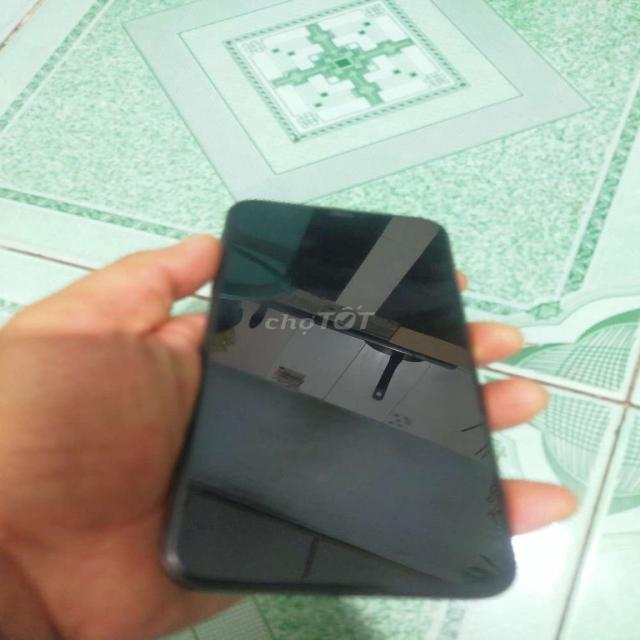gen_11: (150, 183, 524, 615)
